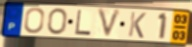1: (157, 12, 168, 41)
K: (127, 11, 147, 40)
L: (74, 9, 93, 37)
O: (23, 6, 46, 35), (47, 7, 69, 36)
V: (96, 8, 123, 40)
